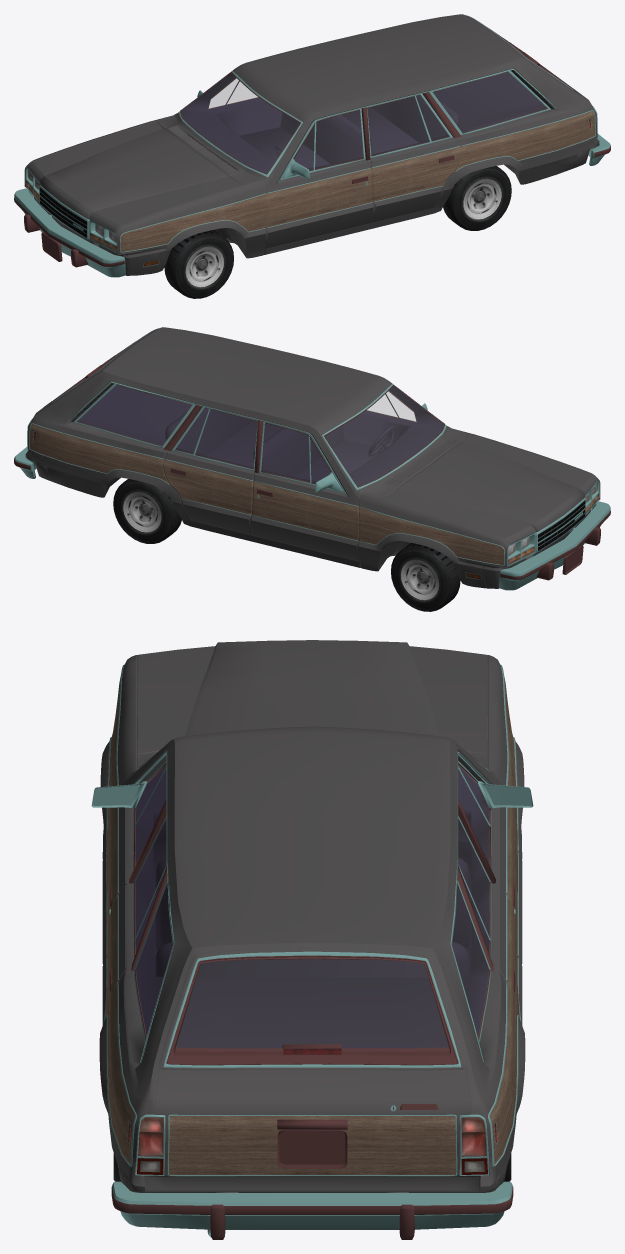
The model's file is Station Wagon.fbx.
3 views of the same model, one above another, from view 1: azimuth 30°, elevation 25°; view 2: azimuth 150°, elevation 25°; view 3: azimuth 270°, elevation 25° (orthographic). The views are drawn at different scales.
Parts seen in each view (by area): view 1: body, glass, interior_void, hood, woodtrim, wheel_008, chrome_trim, bumper_front, plastictrim, grill_chrome, grill, lights (+2 smaller); view 2: body, glass, interior_void, hood, woodtrim, wheel_008, chrome_trim, bumper_front, plastictrim, grill_chrome, grill, lights (+2 smaller); view 3: body, interior_void, glass, hood, woodtrim, bumper_rear, chrome_trim, plastictrim, stoplights.
Boxes of the visible parts, <box> form: body: <box>24,14,599,275</box>; glass: <box>181,72,546,173</box>; interior_void: <box>181,72,547,173</box>; hood: <box>27,121,243,231</box>; woodtrim: <box>120,111,595,251</box>; wheel_008: <box>164,166,511,298</box>; chrome_trim: <box>120,16,597,266</box>; bumper_front: <box>14,188,125,277</box>; plastictrim: <box>180,18,571,184</box>; grill_chrome: <box>25,167,117,252</box>; grill: <box>39,70,552,237</box>; lights: <box>26,170,116,251</box>; body: <box>25,327,600,588</box>; glass: <box>78,385,443,486</box>; interior_void: <box>77,385,443,486</box>; hood: <box>381,434,597,544</box>; woodtrim: <box>29,424,504,564</box>; wheel_008: <box>113,479,460,611</box>; chrome_trim: <box>27,329,504,579</box>; bumper_front: <box>499,501,610,590</box>; plastictrim: <box>44,331,444,497</box>; grill_chrome: <box>507,480,599,565</box>; grill: <box>72,383,585,550</box>; lights: <box>508,483,598,564</box>; body: <box>99,655,525,1192</box>; interior_void: <box>135,765,489,1048</box>; glass: <box>135,765,489,1047</box>; hood: <box>137,640,487,754</box>; woodtrim: <box>105,677,519,1174</box>; bumper_rear: <box>111,1181,513,1239</box>; chrome_trim: <box>91,664,533,1176</box>; plastictrim: <box>109,750,515,1168</box>; stoplights: <box>137,1048,487,1174</box>.
Bounding box in the file's own units: 498 × 136 × 183.
